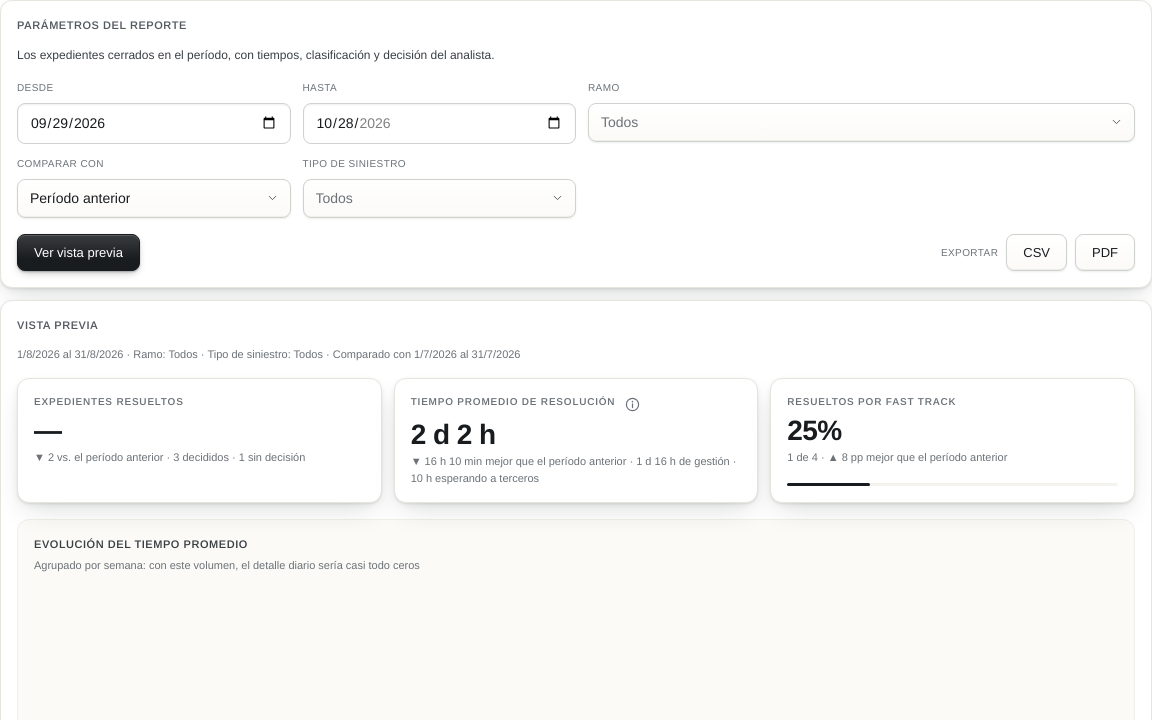
ResolutionReportComponent › drops the duration and rate comparisons when the previous period is too thin
Click the button "Ver vista previa" at {"x": 78, "y": 252}, box [17, 234, 140, 271]
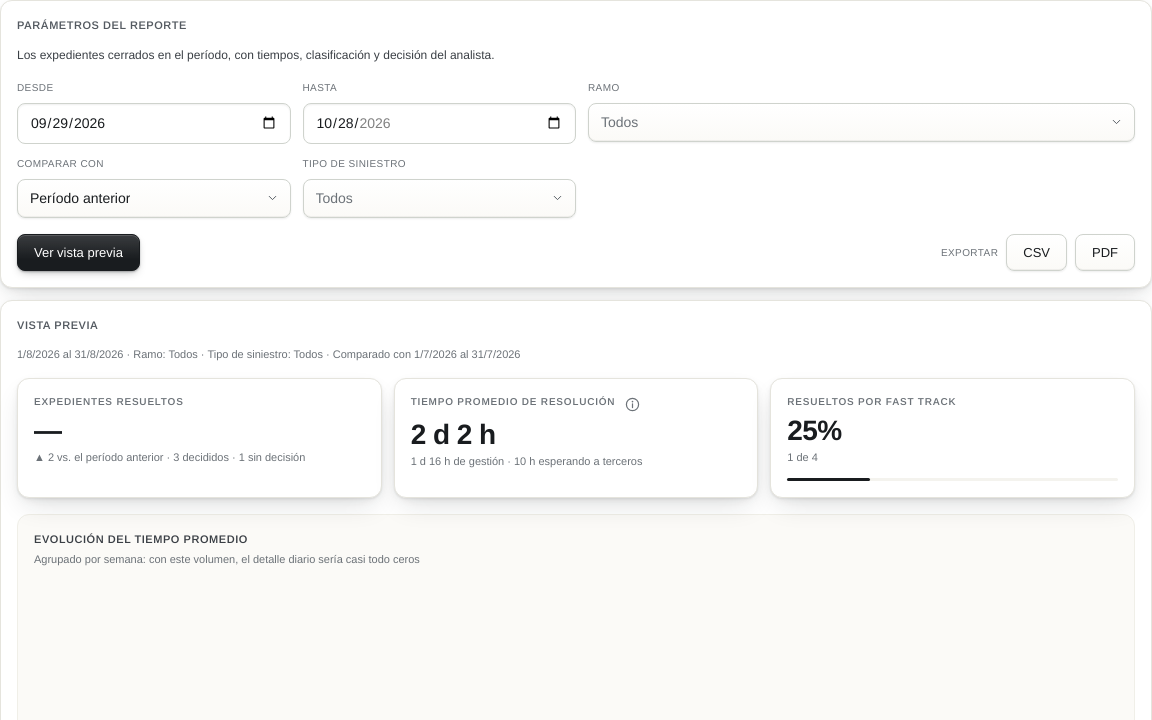
Check: the text "mejor que el período anterior" is gone
Check: the text "▲ 2 vs. el período anterior" is shown, box [34, 451, 305, 463]
